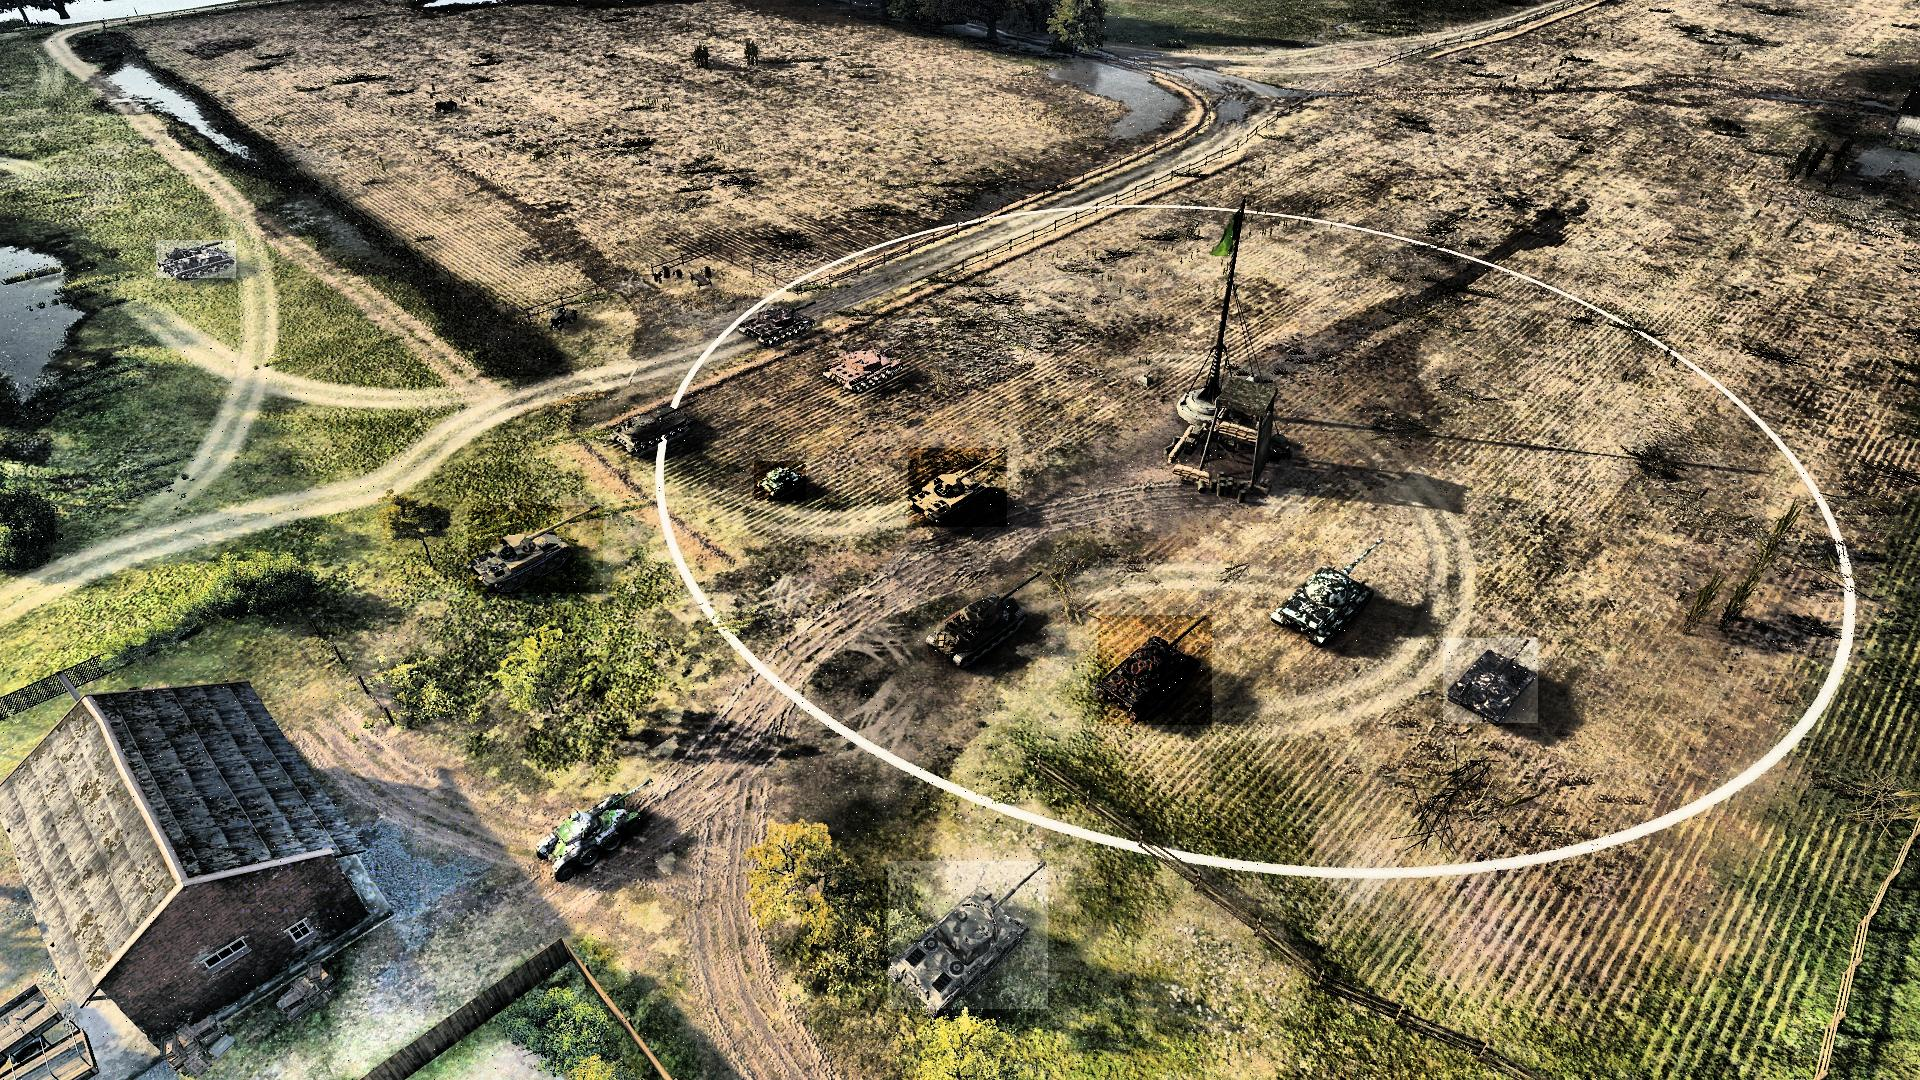military-vehicle: (889, 861, 1048, 1010), (1274, 535, 1389, 650), (535, 778, 657, 882), (1098, 615, 1212, 725), (468, 505, 604, 593), (928, 572, 1048, 665), (1444, 638, 1539, 724), (909, 448, 1007, 527), (611, 400, 703, 455), (823, 343, 905, 393), (737, 301, 822, 348), (157, 240, 236, 278), (754, 462, 807, 501)
